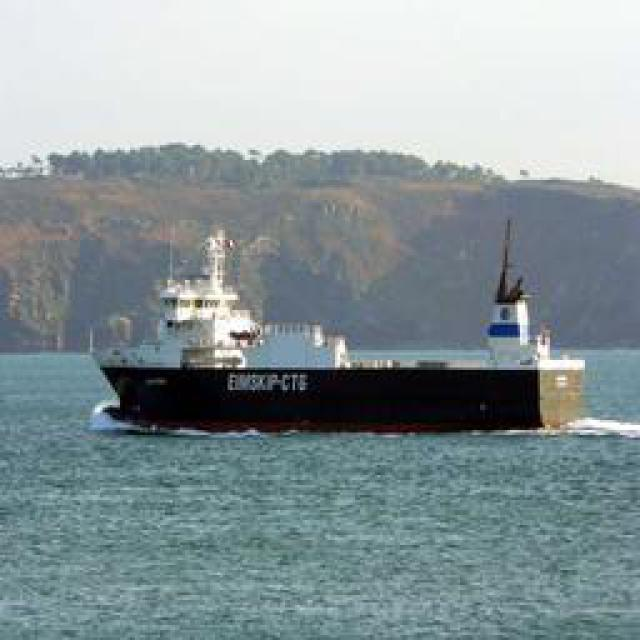Ship: (84, 172, 607, 430)
